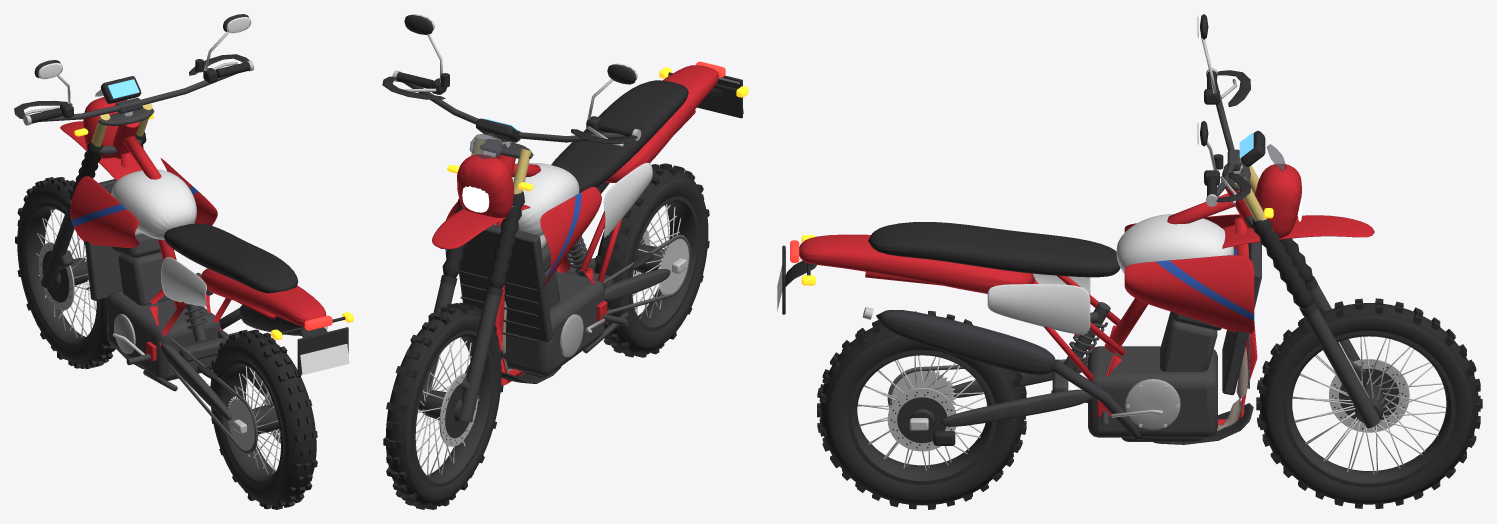
Rendered from xre300.glb.
3 renders of one model, left to right at view 1: azimuth 30°, elevation 25°; view 2: azimuth 150°, elevation 25°; view 3: azimuth 270°, elevation 25°, orthographic. The views are drawn at different scales.
Visible parts, largest first — view 1: body, wheel_rear, wheel_front, steer, swingarm, fork_lower; view 2: body, wheel_front, steer, wheel_rear, fork_lower, swingarm; view 3: body, wheel_front, wheel_rear, steer, swingarm, fork_lower.
Boxes of the visible parts, bbox=[...] form: body: bbox=[70, 121, 353, 391]; wheel_rear: bbox=[210, 329, 317, 509]; wheel_front: bbox=[15, 177, 115, 369]; steer: bbox=[14, 14, 254, 201]; swingarm: bbox=[161, 330, 266, 453]; fork_lower: bbox=[41, 199, 74, 288]; body: bbox=[445, 61, 748, 385]; wheel_front: bbox=[383, 302, 503, 509]; steer: bbox=[382, 14, 641, 288]; wheel_rear: bbox=[595, 163, 709, 357]; fork_lower: bbox=[418, 275, 502, 422]; swingarm: bbox=[556, 234, 690, 314]; body: bbox=[777, 180, 1261, 444]; wheel_front: bbox=[1256, 298, 1482, 508]; wheel_rear: bbox=[817, 311, 1026, 509]; steer: bbox=[1197, 14, 1374, 308]; swingarm: bbox=[887, 359, 1091, 445]; fork_lower: bbox=[1299, 276, 1380, 428].
Bounding box in the file's own units: 0.9844 × 1.53 × 2.24.
